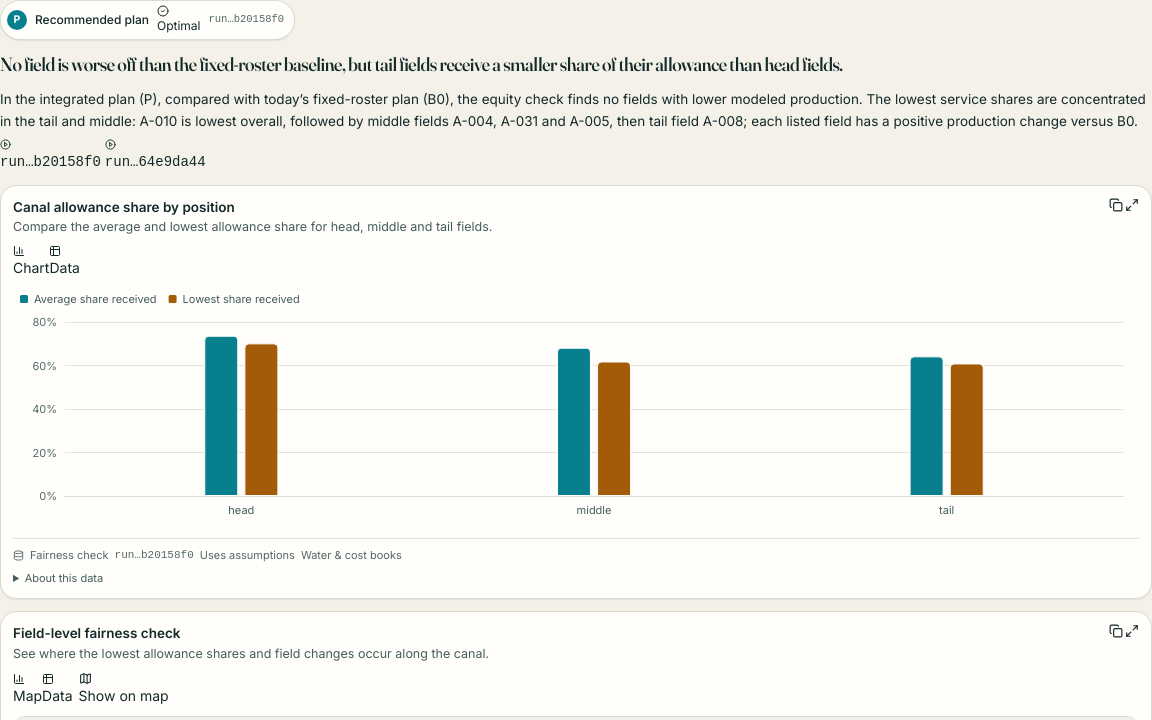
Test: Show on map highlights the answer's fields and opens the Plan map
This screenshot has width=1152, height=720.
Click the button with test id "copilot-show-on-map" at (124, 689), box [79,672,169,706]
(page scrolled)
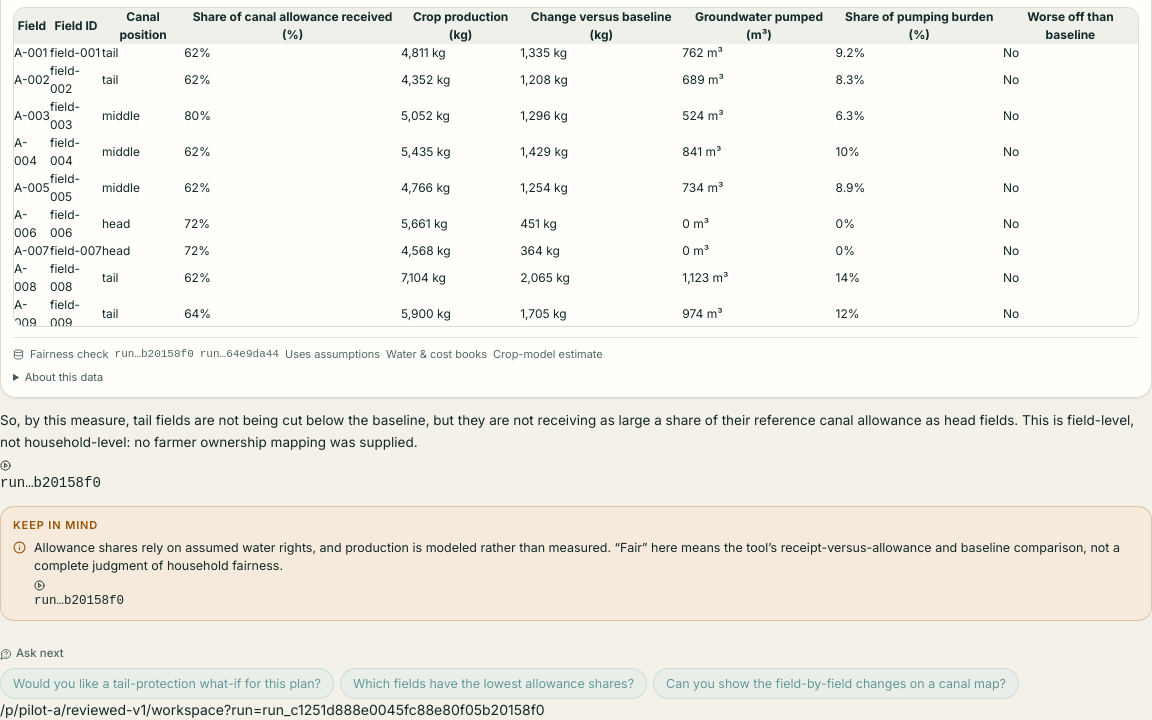
Check: the text with test id "location" shows "/workspace", box [0,701,545,718]
